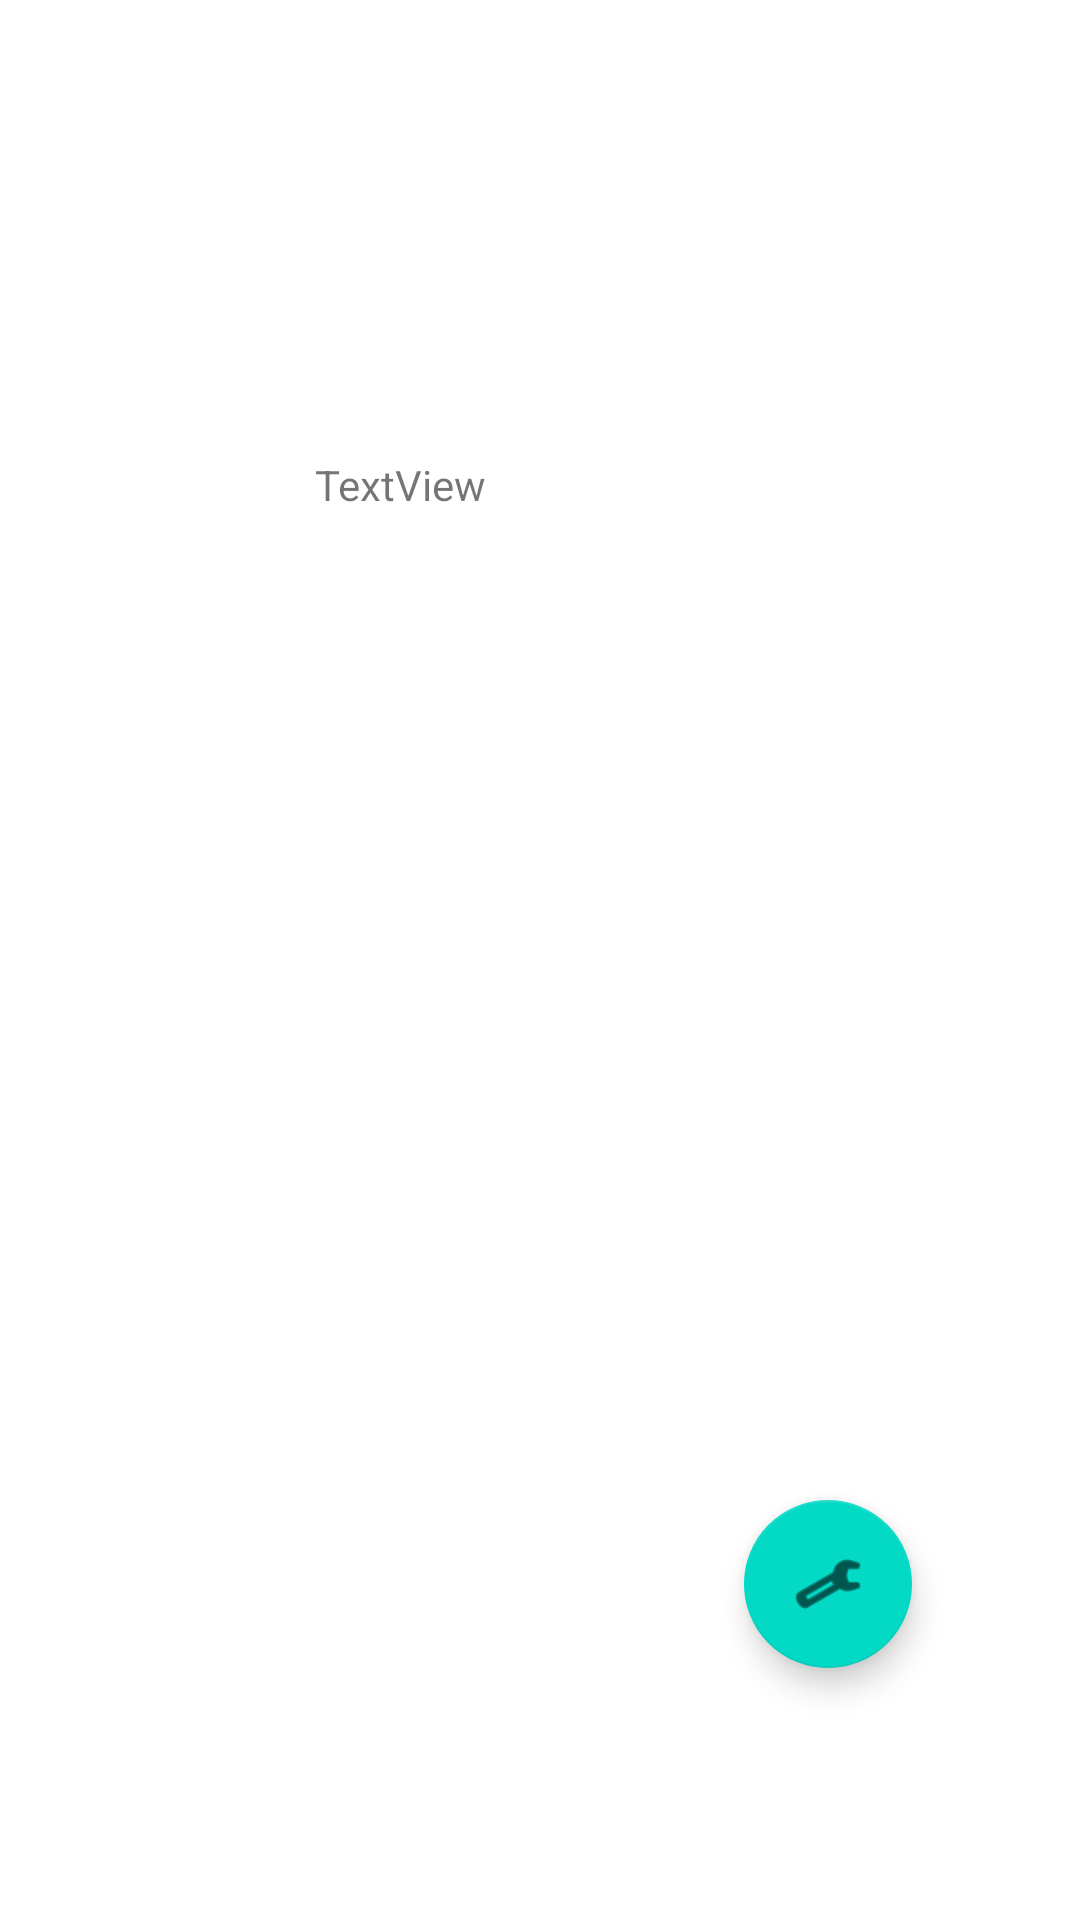

Named icons in this screenshot (1080px×1920px) and their bounding boxes, [x1=x1, y1=y1, x2=x2, y2=y2]:
preferences: [x1=744, y1=1500, x2=912, y2=1668]
